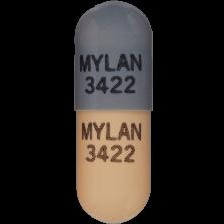0378-3422: (0, 0, 224, 224)
